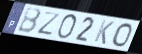2: (74, 17, 95, 44)
B: (16, 7, 42, 35)
K: (92, 19, 116, 46)
O: (56, 14, 78, 40), (111, 22, 133, 48)
Z: (36, 11, 62, 37)
